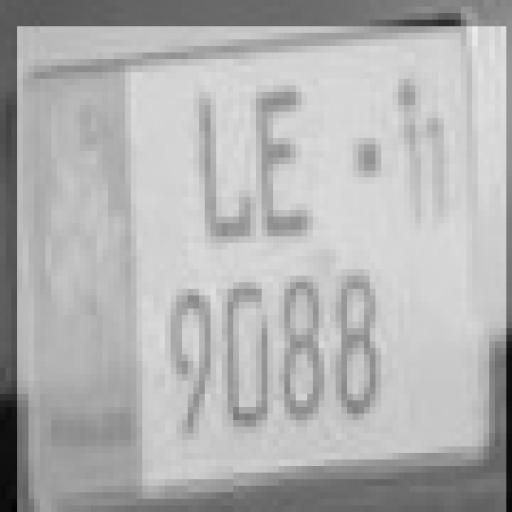0: (222, 282, 273, 440)
8: (279, 260, 329, 425), (336, 254, 378, 425)
9: (159, 270, 211, 436)
E: (254, 81, 308, 248)
L: (188, 90, 256, 253)
